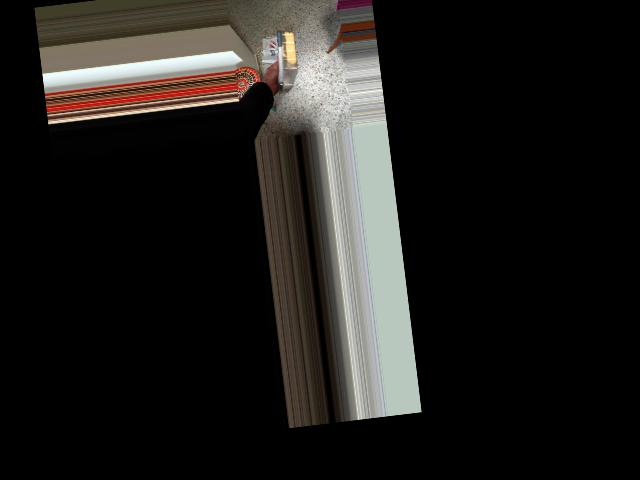cheese: (259, 26, 307, 91)
